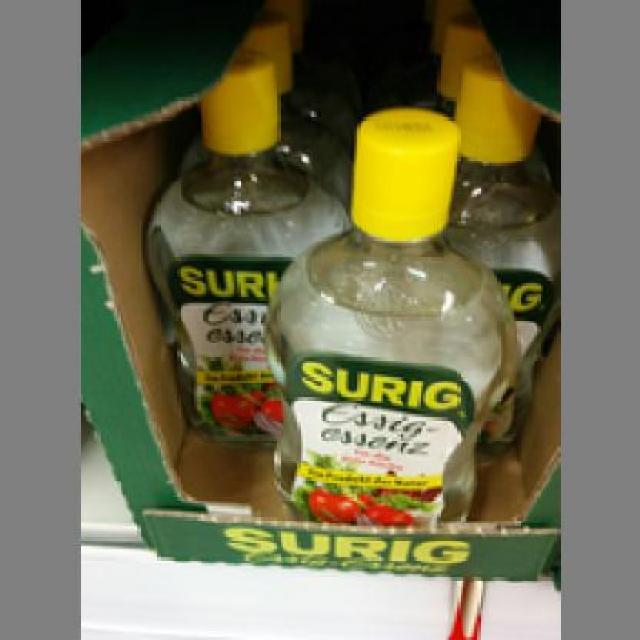Vinegar: (268, 108, 506, 524), (146, 46, 348, 463)
